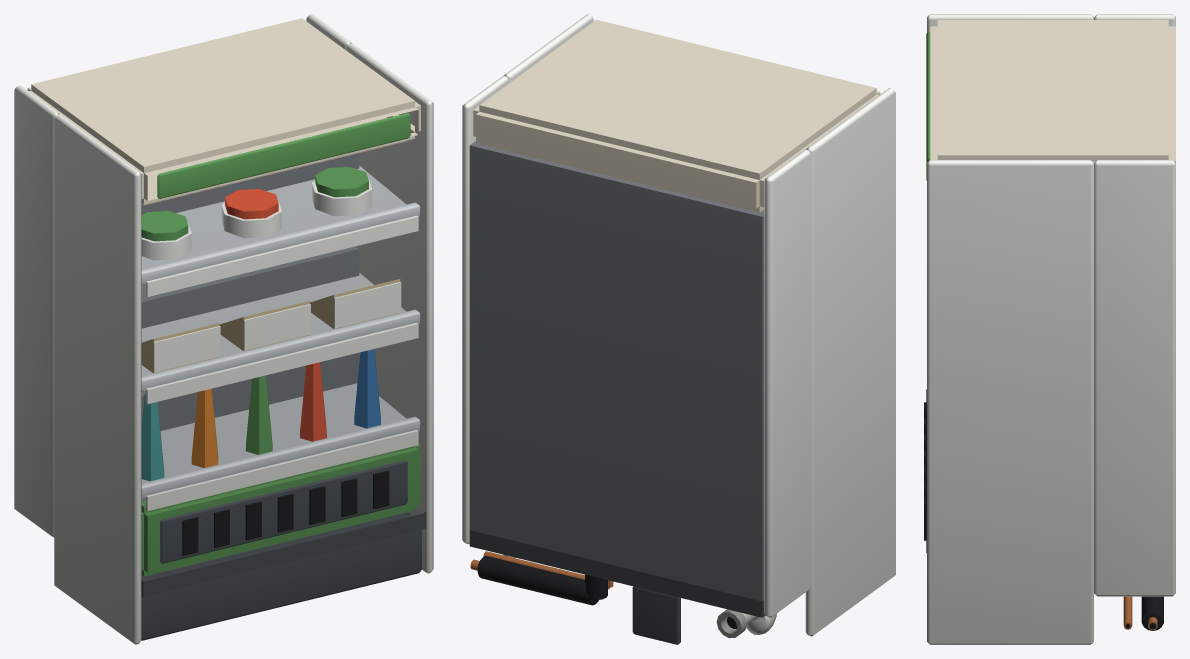
The model's file is DrinkCooler_GrabGo_10_Stocked.glb.
3 renders of one model, left to right at view 1: azimuth 30°, elevation 25°; view 2: azimuth 150°, elevation 25°; view 3: azimuth 270°, elevation 25°, orthographic. The views are drawn at different scales.
Visible parts, largest first — view 1: SM_DrinkCooler_GrabGo_10_Stocked; view 2: SM_DrinkCooler_GrabGo_10_Stocked; view 3: SM_DrinkCooler_GrabGo_10_Stocked.
Part boxes in pixels (x1,y1,x2,y2): SM_DrinkCooler_GrabGo_10_Stocked: [14, 14, 433, 644]; SM_DrinkCooler_GrabGo_10_Stocked: [462, 14, 895, 644]; SM_DrinkCooler_GrabGo_10_Stocked: [924, 14, 1175, 644].
Bounding box in the file's own units: 1 × 1.5 × 0.708.
1 material, 1 textured.
